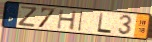3: (117, 14, 134, 36)
7: (39, 7, 57, 29)
H: (56, 9, 78, 31)
I: (77, 10, 85, 32)
L: (97, 12, 113, 35)
Z: (17, 5, 39, 28)
